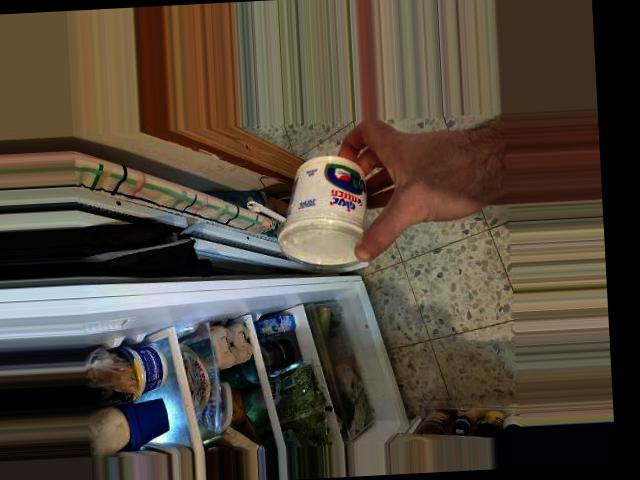cotage: (271, 149, 388, 272)
